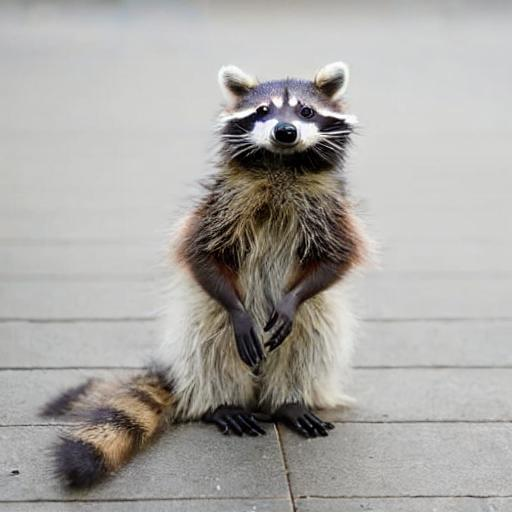raccoon: (63, 44, 383, 487)
